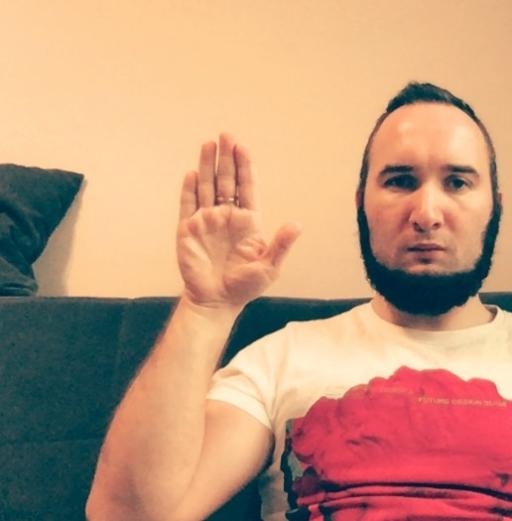stop: (172, 128, 305, 305)
